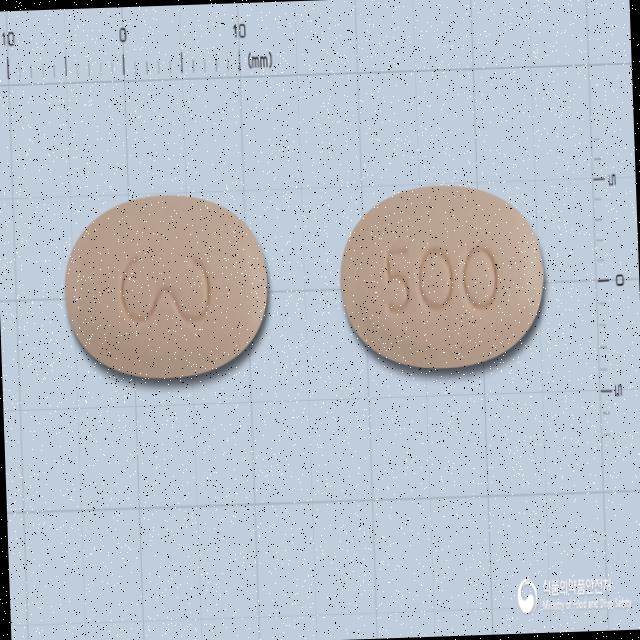Withus Levofloxacin Tab: (61, 189, 272, 384), (337, 179, 548, 372)
